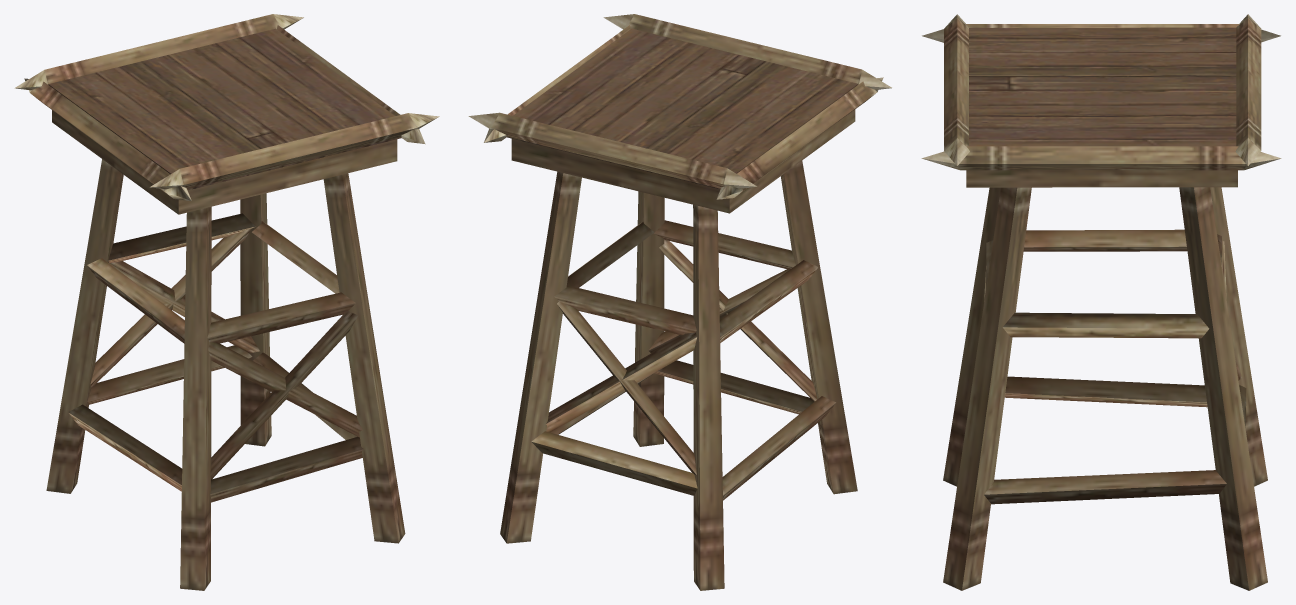
The model's file is talou02_L.fbx.
The picture shows the model from 3 angles, left to right: view 1: azimuth 30°, elevation 25°; view 2: azimuth 150°, elevation 25°; view 3: azimuth 270°, elevation 25°; orthographic projection. The views are drawn at different scales.
Visible parts, largest first — view 1: talou02_L; view 2: talou02_L; view 3: talou02_L.
Part boxes in pixels (x1=…): talou02_L: x1=14, y1=14, x2=439, y2=590; talou02_L: x1=468, y1=14, x2=891, y2=590; talou02_L: x1=921, y1=14, x2=1281, y2=590.
Bounding box in the file's own units: 2.55 × 3.54 × 2.55.
